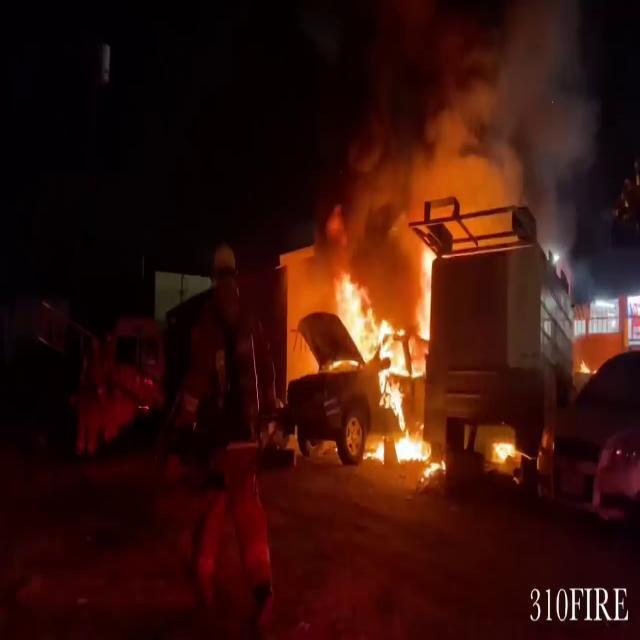Fire: (334, 244, 444, 468)
Smoke: (319, 0, 611, 245)
